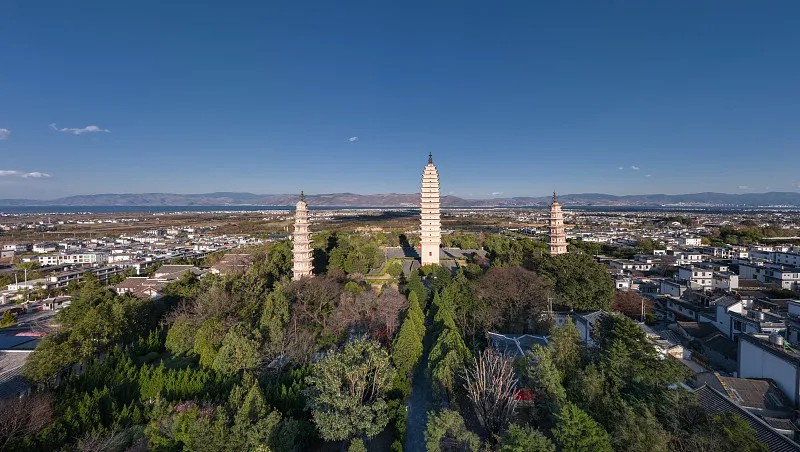ThreePagoda: (418, 151, 443, 265)
